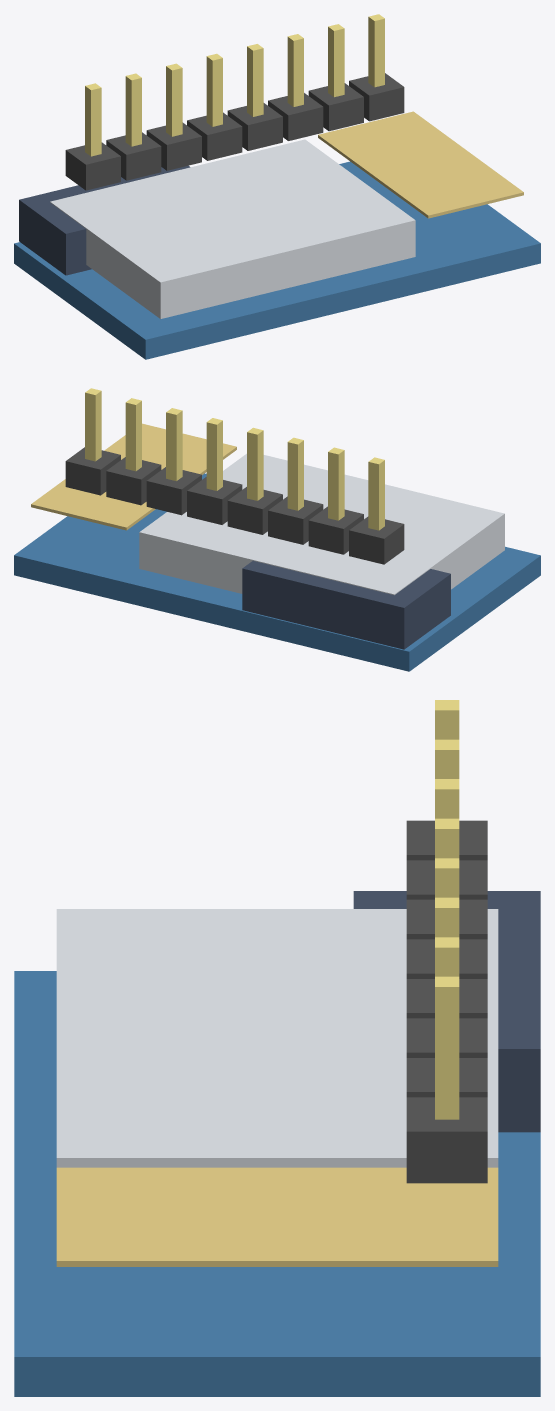
The model's file is esp8266-esp01-wifi.glb.
3 renders of one model, top to bottom at view 1: azimuth 30°, elevation 25°; view 2: azimuth 150°, elevation 25°; view 3: azimuth 270°, elevation 25°, orthographic. The views are drawn at different scales.
Parts seen in each view (by area): view 1: esp8266-esp01-wifi_mesh; view 2: esp8266-esp01-wifi_mesh; view 3: esp8266-esp01-wifi_mesh.
Boxes of the visible parts, x1,y1,x2,y2 form: esp8266-esp01-wifi_mesh: (14, 14, 540, 359); esp8266-esp01-wifi_mesh: (14, 388, 540, 671); esp8266-esp01-wifi_mesh: (14, 700, 540, 1396).
Size of the model in its own units: 24.8 by 10.8 by 14.3.
